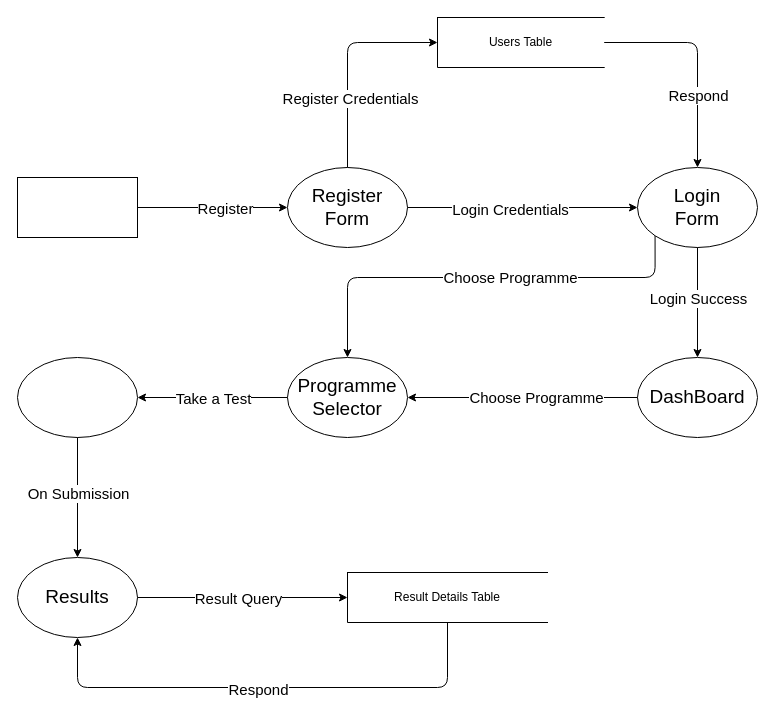
This 775x715 diagram has some shape labels left out. The shapes that lost their labels are listed below. From the top down, each one's centre as x and y in pixels, then its label:
At pixel 77 207: "Users".
At pixel 77 397: "Model Question".
